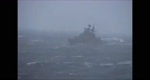tau_muctieu: (69, 23, 103, 45)
